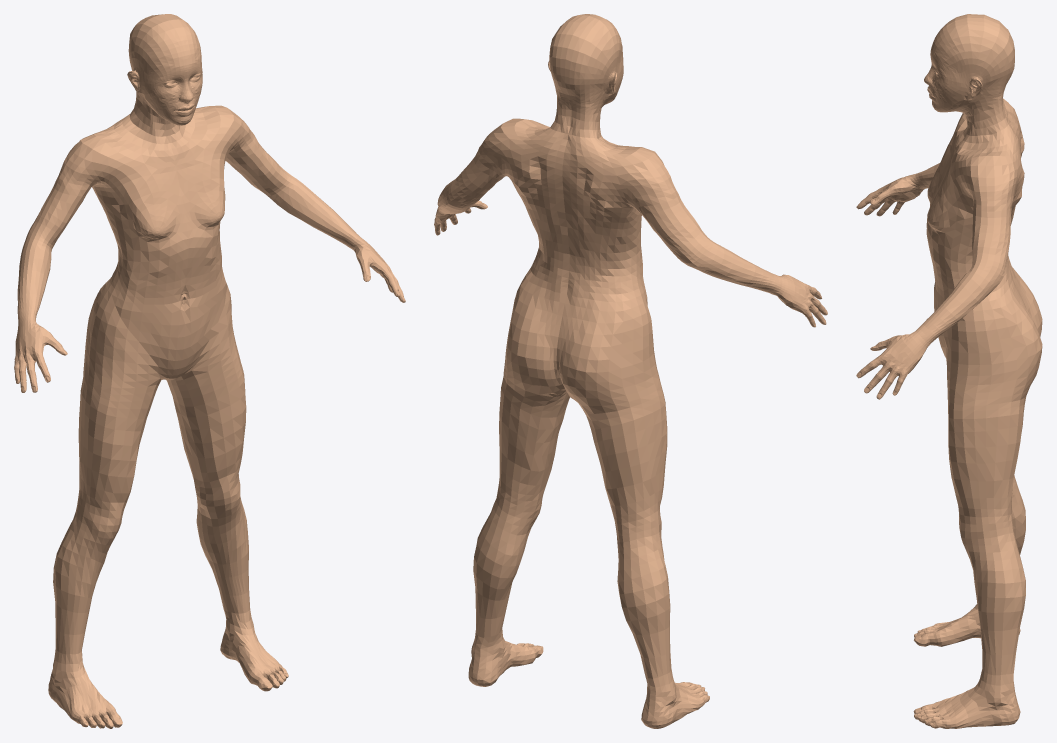
The model's file is skin.glb.
The picture shows the model from 3 angles, left to right: view 1: azimuth 30°, elevation 25°; view 2: azimuth 150°, elevation 25°; view 3: azimuth 270°, elevation 25°; orthographic projection.
Parts seen in each view (by area): view 1: skin; view 2: skin; view 3: skin.
Boxes of the visible parts, x1,y1,x2,y2 form: skin: (14, 14, 405, 728); skin: (434, 14, 827, 728); skin: (856, 14, 1042, 728).
Bounding box in the file's own units: 9.93 × 16.66 × 4.23.
